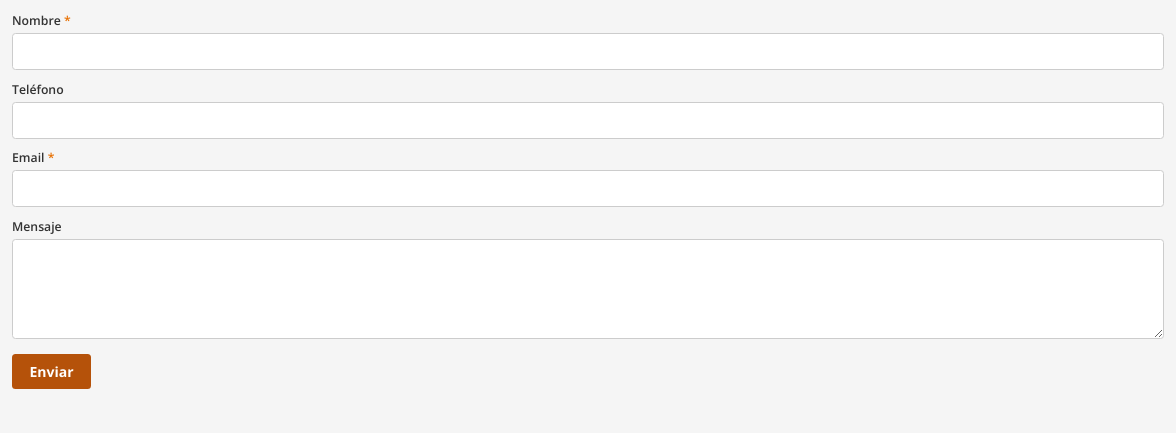
Test: ContactForm › shows error message when fetch returns ok: false
In the field labelled "Nombre *": (588, 52) top-left (12, 33), bottom-right (1164, 70), type "Juan Pérez"
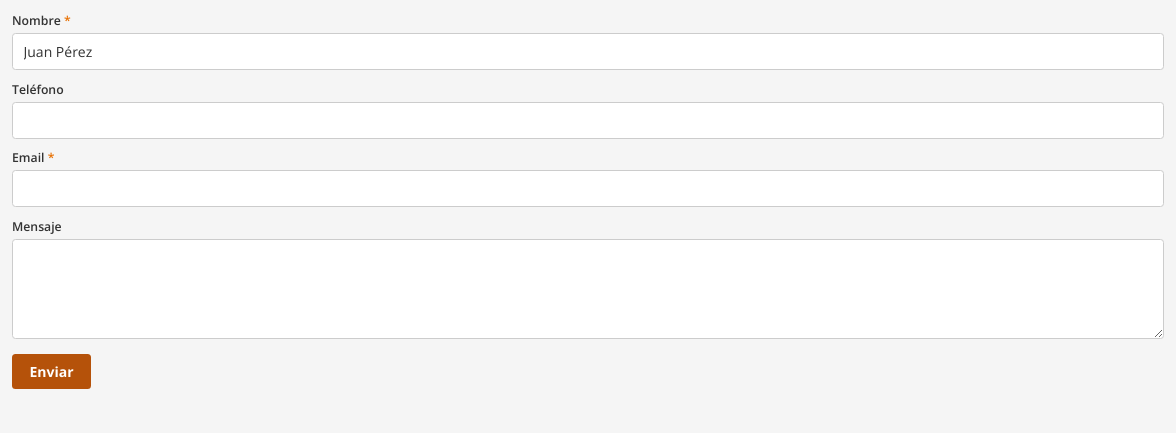
In the field labelled "Email *": (588, 188) top-left (12, 170), bottom-right (1164, 207), type "test@example.com"
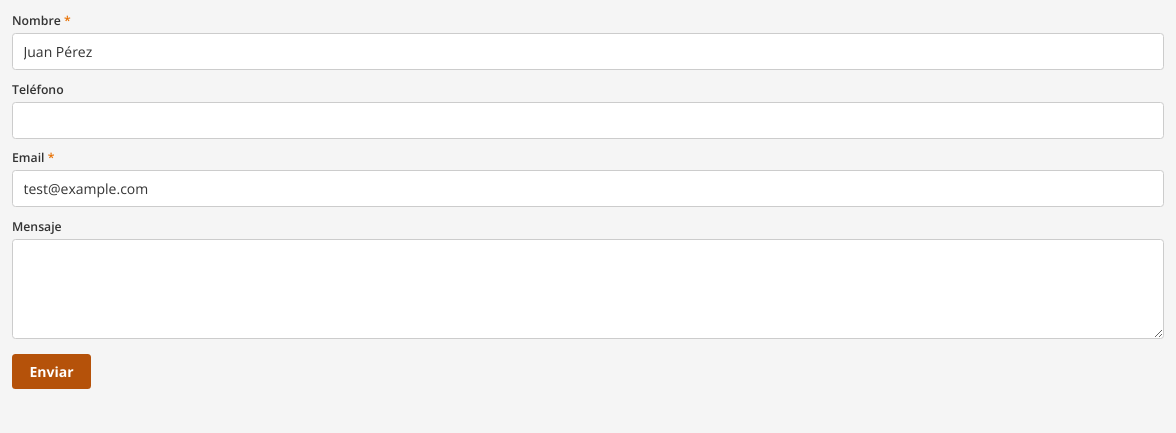
In the text box labelled "Mensaje": (588, 288) top-left (12, 238), bottom-right (1164, 338), type "Hola, necesito información."
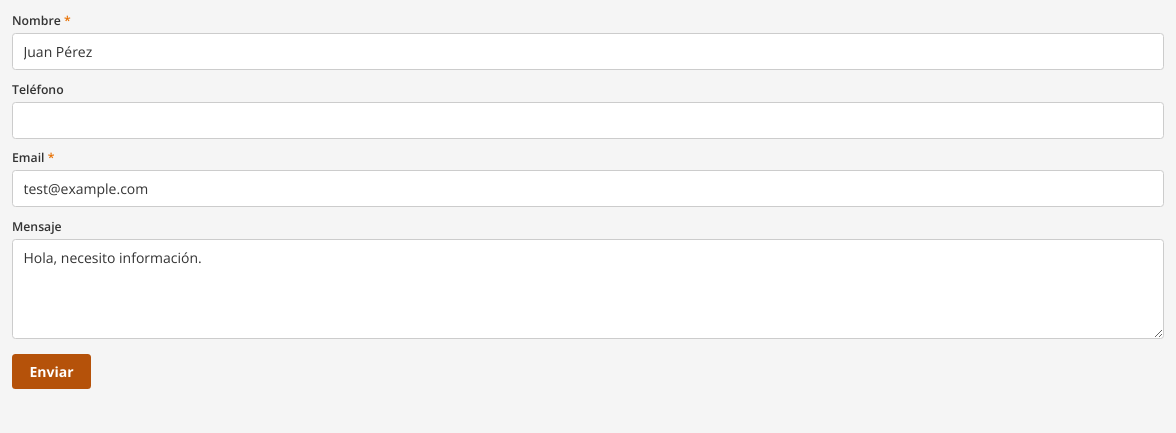
Click the button "Enviar": (52, 372) top-left (12, 354), bottom-right (91, 389)
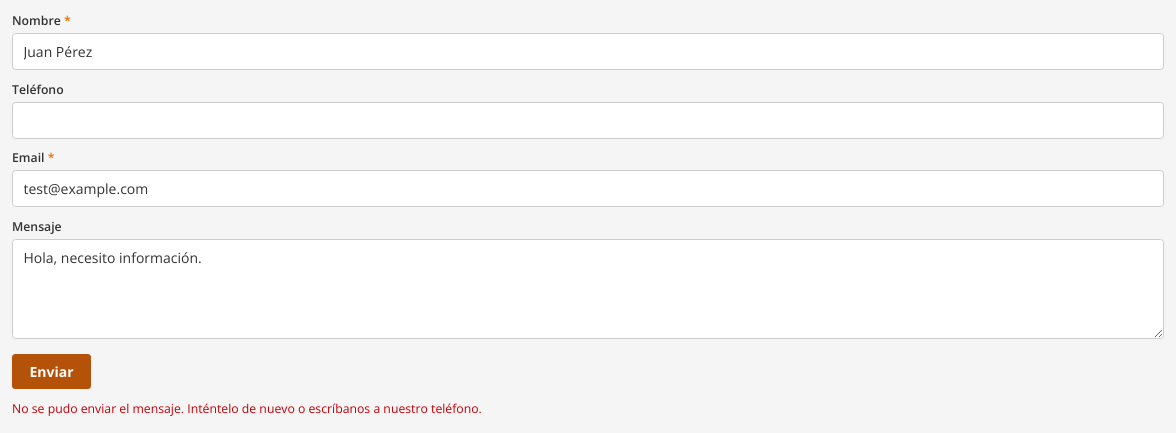
Expected: the text "No se pudo enviar el mensaje" is shown, top-left (12, 400), bottom-right (482, 416)
